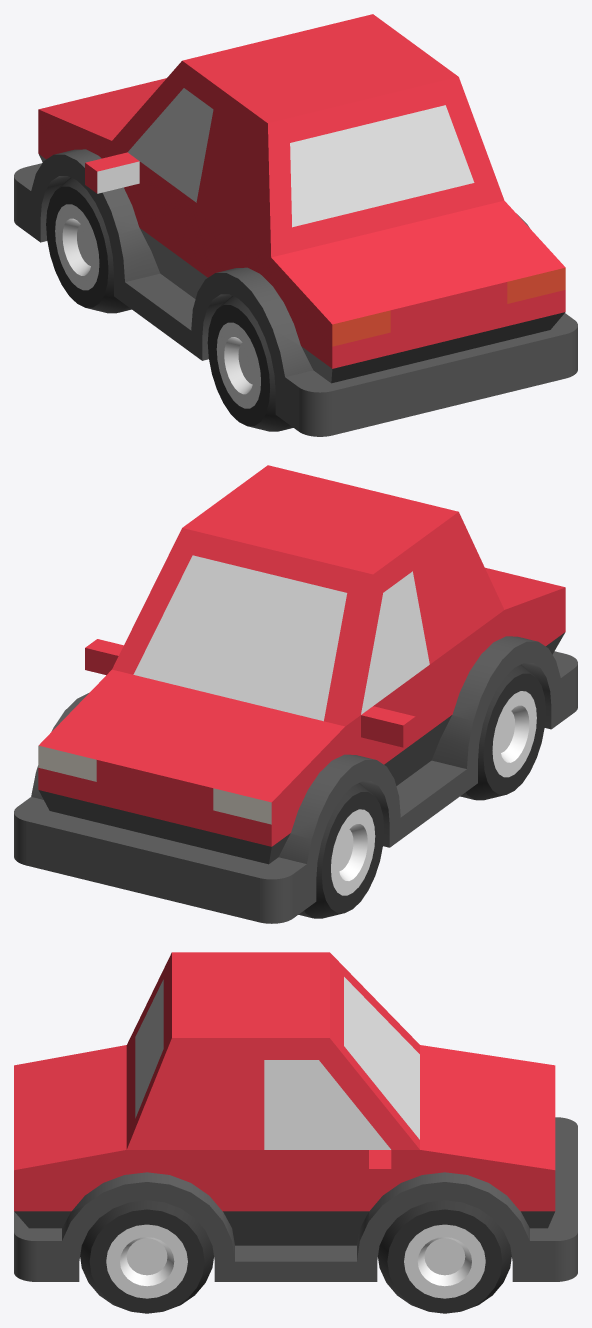
The model's file is sedan.glb.
3 views of the same model, one above another, from view 1: azimuth 30°, elevation 25°; view 2: azimuth 150°, elevation 25°; view 3: azimuth 270°, elevation 25° (orthographic). The views are drawn at different scales.
Visible parts, largest first — view 1: sedan; view 2: sedan; view 3: sedan.
Part boxes in pixels (x1,y1,x2,y2): sedan: (14,14,577,436); sedan: (14,465,577,923); sedan: (14,952,577,1313).
Bounding box in the file's own units: 2.25 × 1.95 × 3.75.
